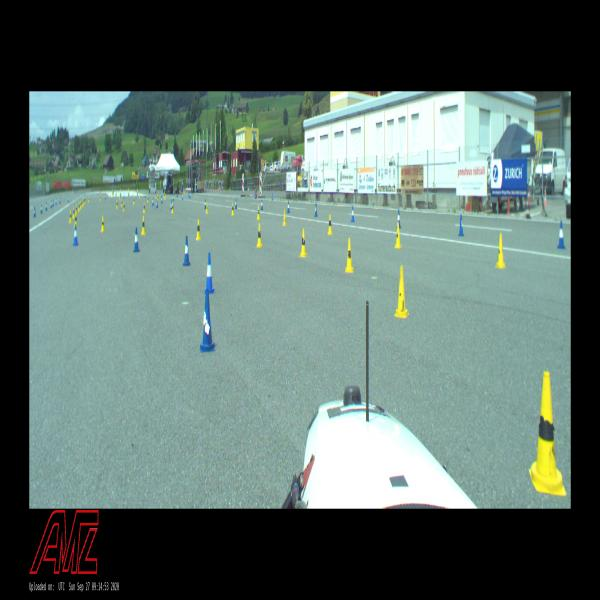blue_cone: (200, 289, 215, 351), (205, 253, 214, 294), (183, 236, 190, 266), (558, 222, 565, 249), (133, 228, 140, 252), (458, 214, 464, 236), (73, 224, 78, 246), (396, 210, 401, 228), (351, 206, 355, 222), (314, 203, 317, 216), (287, 201, 290, 212), (261, 200, 263, 210), (170, 200, 172, 210), (235, 199, 237, 208), (34, 208, 36, 216), (156, 200, 158, 208), (40, 205, 42, 213), (152, 198, 154, 205), (55, 198, 57, 205), (52, 199, 54, 206), (188, 192, 190, 198), (161, 197, 163, 203), (205, 199, 206, 209), (254, 193, 256, 198), (144, 192, 146, 197), (46, 202, 47, 210), (272, 192, 273, 200), (173, 194, 174, 202), (51, 201, 52, 207), (189, 192, 190, 198), (105, 194, 106, 200), (59, 197, 60, 203), (182, 194, 183, 199), (177, 192, 178, 197), (161, 193, 162, 198), (112, 184, 113, 188), (182, 182, 183, 186), (128, 193, 129, 196), (124, 193, 124, 198), (68, 196, 68, 202), (75, 187, 75, 191), (77, 186, 77, 190), (137, 193, 137, 196), (141, 187, 141, 191)
large_orange_cone: (544, 184, 547, 204)
orange_cone: (72, 189, 74, 193), (210, 189, 211, 192), (207, 188, 207, 192), (209, 189, 209, 193)
unknown_cone: (526, 190, 530, 218)
yellow_cone: (531, 371, 562, 492), (396, 265, 407, 317), (496, 234, 505, 268), (346, 238, 354, 273), (300, 229, 307, 257), (396, 222, 402, 248), (257, 223, 262, 247), (196, 218, 201, 240), (141, 216, 146, 235), (328, 215, 332, 234), (101, 215, 105, 232), (282, 209, 286, 226), (74, 213, 78, 227), (69, 210, 72, 223), (257, 206, 260, 219), (231, 203, 234, 215), (206, 202, 209, 213), (73, 206, 75, 219), (76, 204, 78, 215), (144, 202, 146, 212), (172, 202, 174, 212), (123, 202, 125, 211), (80, 200, 82, 209), (116, 200, 118, 208), (133, 196, 135, 204), (157, 194, 159, 201), (121, 199, 123, 206), (147, 196, 149, 202), (79, 201, 80, 212), (85, 195, 86, 204), (82, 198, 83, 206), (165, 193, 166, 200), (100, 194, 101, 200), (88, 196, 89, 202), (163, 192, 164, 198), (156, 193, 157, 198), (120, 188, 121, 193), (137, 188, 138, 192), (116, 190, 117, 194), (110, 193, 111, 197), (132, 193, 133, 196), (126, 188, 127, 191), (141, 191, 142, 194), (84, 196, 84, 206), (140, 194, 140, 198), (120, 195, 120, 200), (129, 188, 129, 192), (108, 191, 108, 194), (134, 189, 134, 191), (184, 186, 184, 190)
